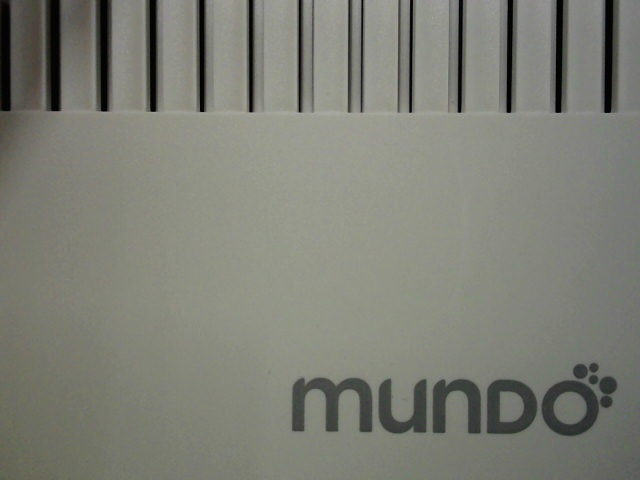BI_MUNDO: (275, 346, 625, 438)
